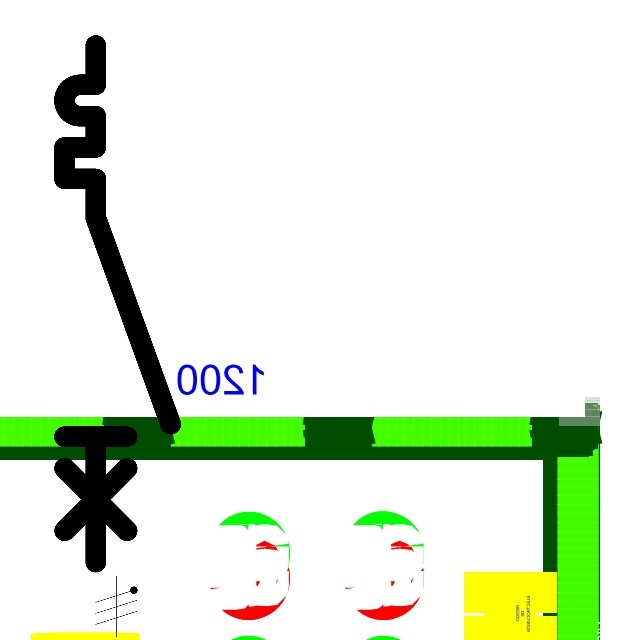interruptor_termomagnetico: (51, 32, 184, 575)
